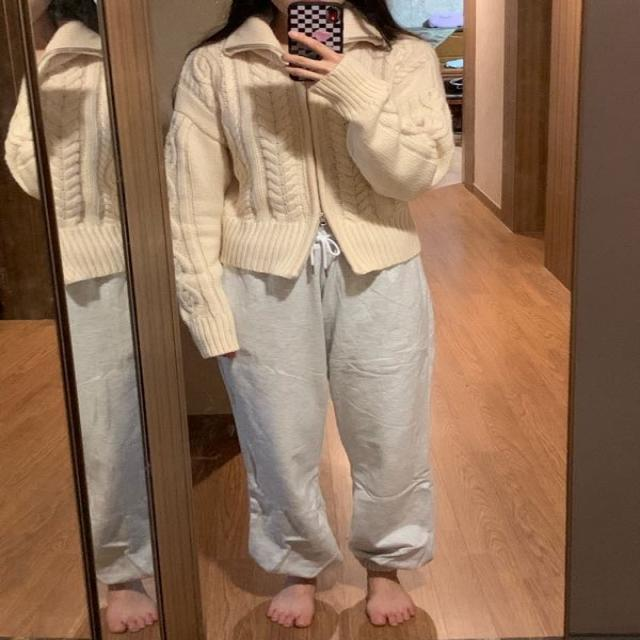cardigan: (164, 11, 455, 363)
trainingpants: (198, 214, 438, 580)
